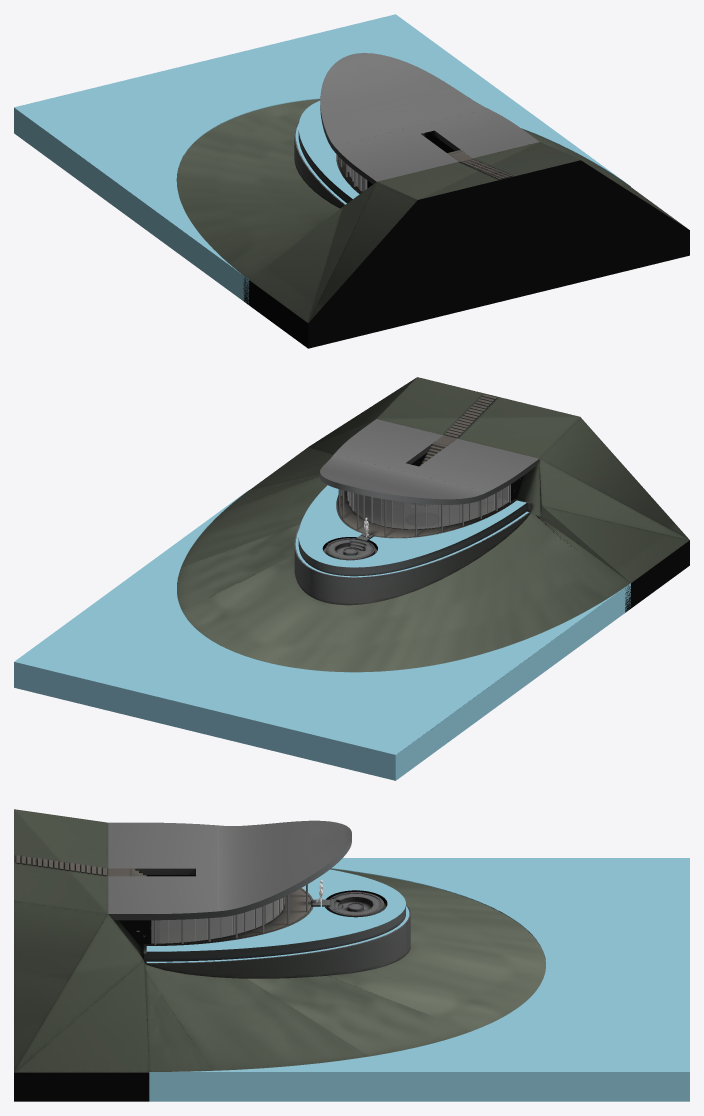
The model's file is cabana-2.glb.
The picture shows the model from 3 angles, top to bottom: view 1: azimuth 30°, elevation 25°; view 2: azimuth 150°, elevation 25°; view 3: azimuth 270°, elevation 25°; orthographic projection. The views are drawn at different scales.
Parts seen in each view (by area): view 1: C-TOPO, Layer 02, A-ROOF, Layer 03, A-FLOR; view 2: C-TOPO, Layer 02, A-ROOF, Layer 03, A-FLOR, A-GLAZ-CURT, A-GLAZ-CWMG; view 3: C-TOPO, Layer 02, A-ROOF, Layer 03, A-FLOR, A-GLAZ-CURT, I-WALL, A-GLAZ-CWMG.
Boxes of the visible parts, x1,y1,x2,y2 form: C-TOPO: (176,99,689,348); Layer 02: (14,14,630,304); A-ROOF: (320,53,539,184); Layer 03: (294,121,354,238); A-FLOR: (336,133,512,193); C-TOPO: (177,377,689,672); Layer 02: (14,485,630,780); A-ROOF: (320,419,538,504); Layer 03: (294,499,531,605); A-FLOR: (323,394,515,553); A-GLAZ-CURT: (348,486,508,528); A-GLAZ-CWMG: (338,484,510,536); C-TOPO: (14,809,545,1101); Layer 02: (146,858,689,1101); A-ROOF: (108,820,351,920); Layer 03: (143,892,410,978); A-FLOR: (16,855,386,945); A-GLAZ-CURT: (151,898,282,943); I-WALL: (119,875,387,955); A-GLAZ-CWMG: (154,884,307,944).
Bounding box in the file's own units: 30.21 × 10.58 × 40.32.
Materials: 9 (4 with a texture image).
